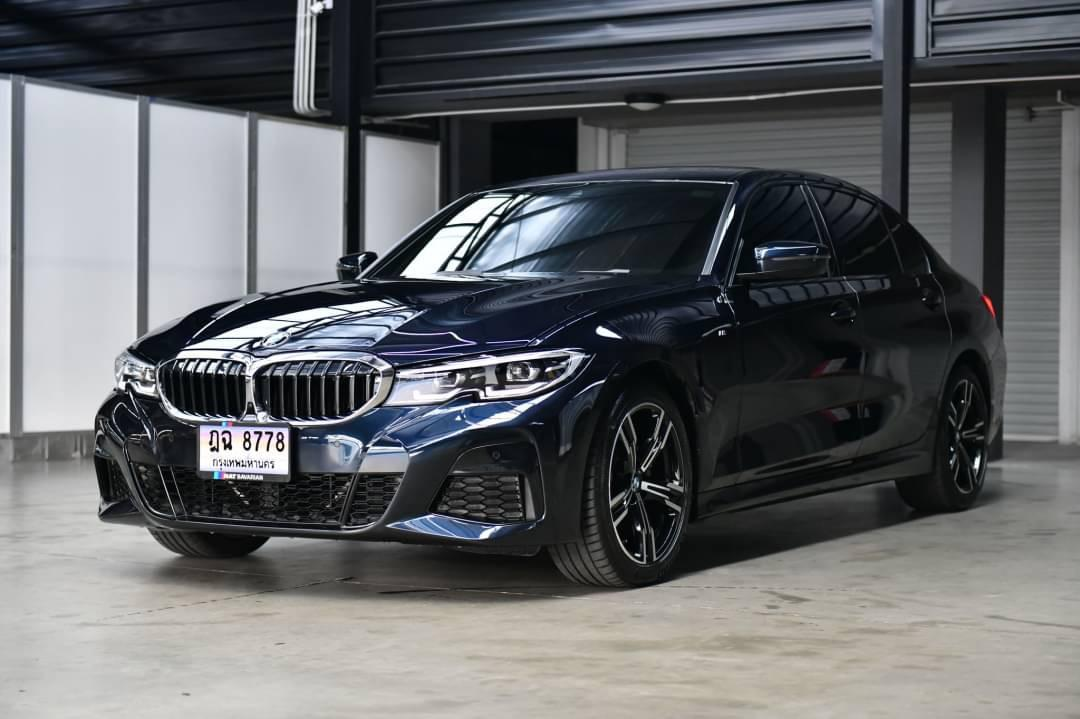license-plate: (196, 418, 293, 485)
